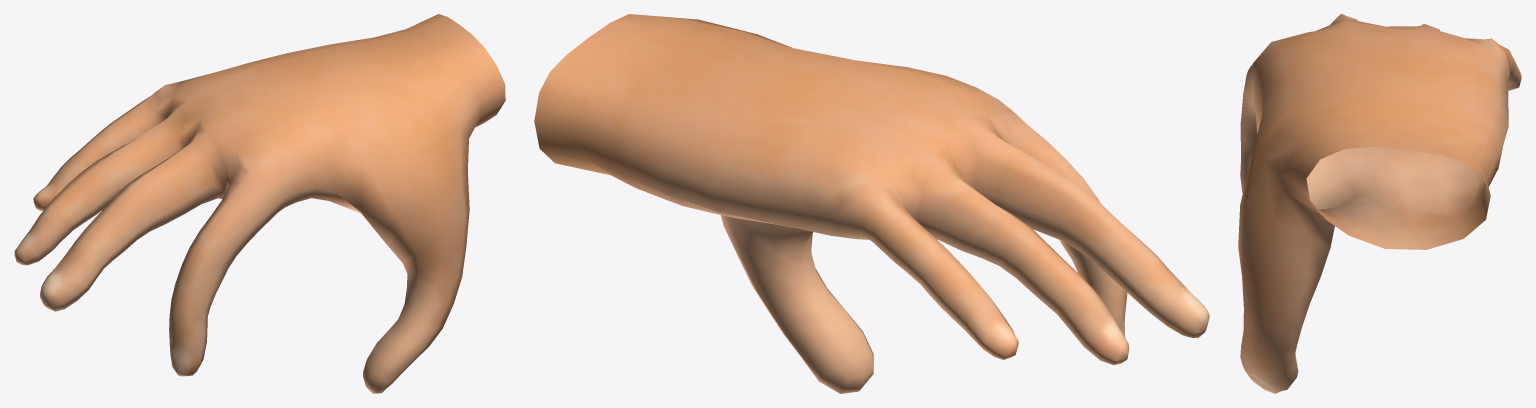
File: H_ring_large.fbx
3 renders of one model, left to right at view 1: azimuth 30°, elevation 25°; view 2: azimuth 150°, elevation 25°; view 3: azimuth 270°, elevation 25°, orthographic. The views are drawn at different scales.
Parts seen in each view (by area): view 1: H_ring_large; view 2: H_ring_large; view 3: H_ring_large.
Part boxes in pixels (box(x1,y1,x2,y2)): H_ring_large: box(14, 14, 505, 393); H_ring_large: box(534, 14, 1209, 393); H_ring_large: box(1238, 14, 1521, 393).
Size of the model in its own units: 19.63 by 11.87 by 9.53.
1 material, 1 textured.
